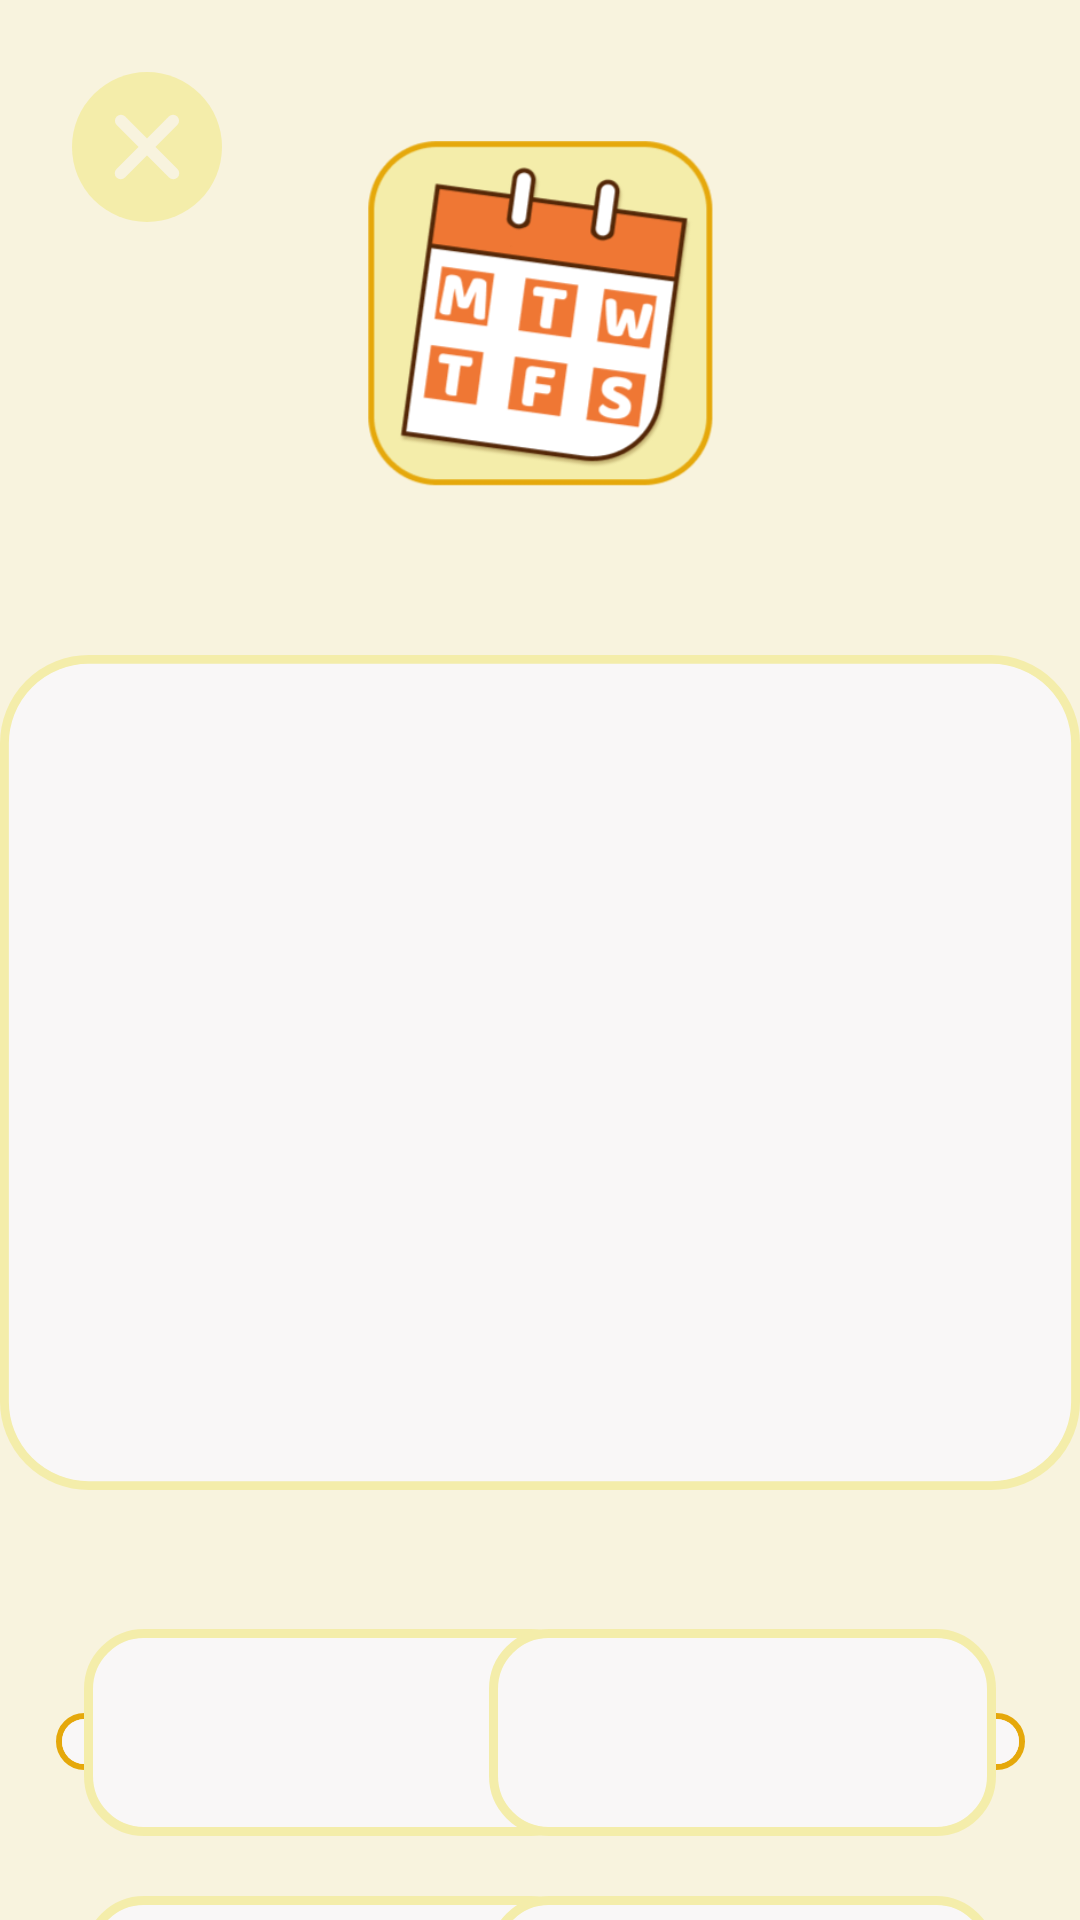

Where icons sit on this 1080w x 1920h app screen, as (x1, y1, x2, y2):
timegameexit: (72, 72, 222, 222)
timegameicon: (368, 141, 713, 486)
